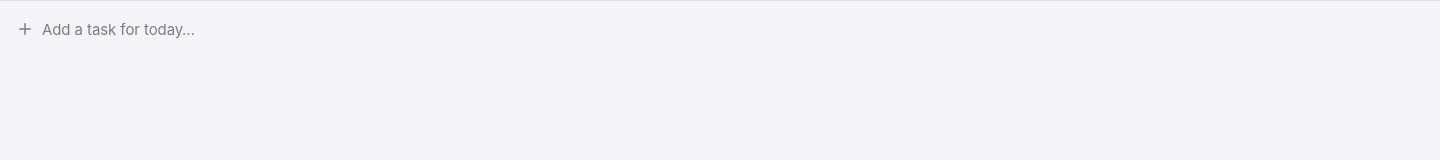
Test case: QuickAdd › shows the API error inline
Type "x" into the field named "Add task".
click(733, 29); type("x")  # box [42,11,1424,47]
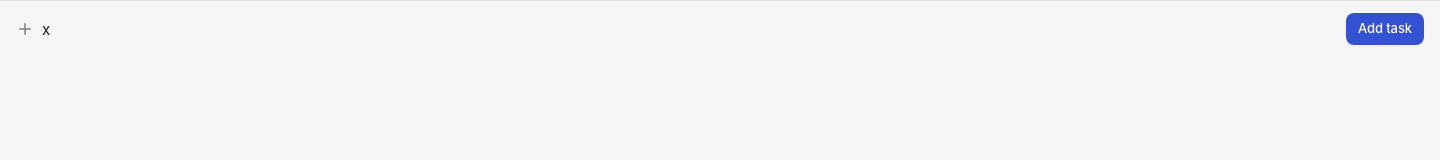
Click the button "Add task".
click(1385, 29)  # box [1346,13,1424,45]
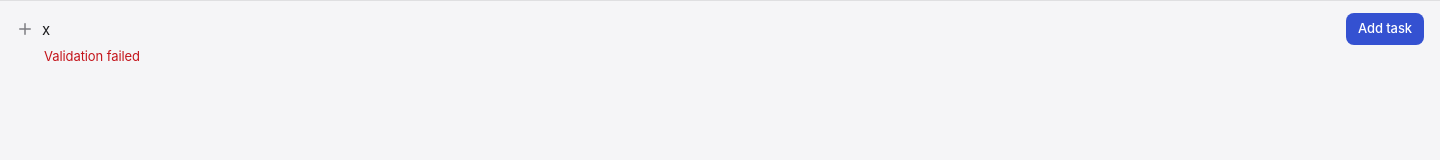
Expected: the message reads "Validation failed", [44,48,140,64]
